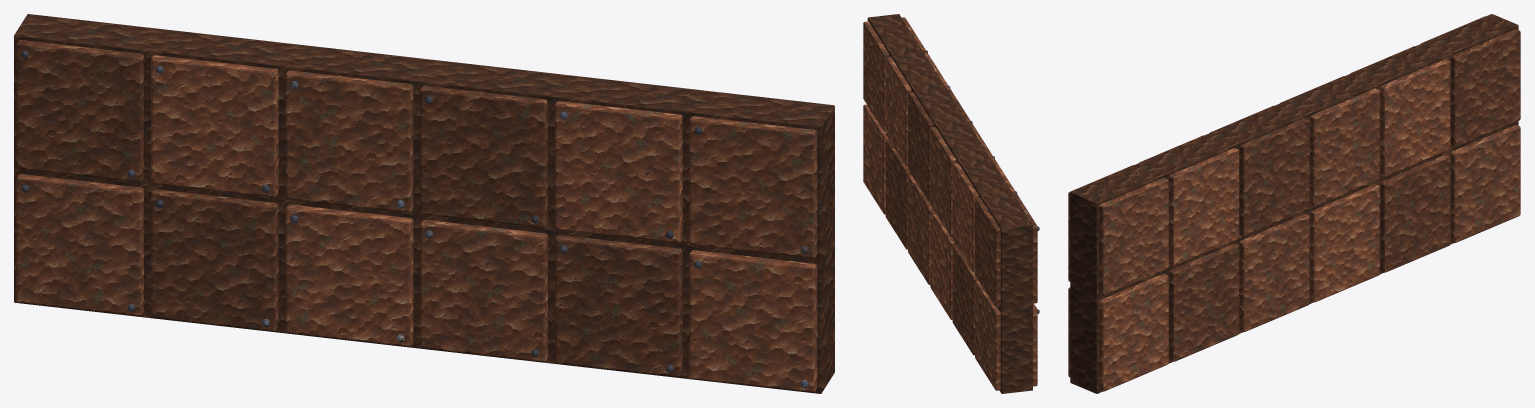
File: half_wall_diagonal__copper_ingot.glb
The picture shows the model from 3 angles, left to right: view 1: azimuth 30°, elevation 25°; view 2: azimuth 150°, elevation 25°; view 3: azimuth 270°, elevation 25°; orthographic projection. The views are drawn at different scales.
Visible parts, largest first — view 1: model; view 2: model; view 3: model.
Part boxes in pixels (x1,y1,x2,y2): model: (14,14,834,393); model: (863,14,1039,393); model: (1068,14,1520,393).
Size of the model in its own units: 2.14 by 1 by 2.14.
7 materials, 7 textured.
